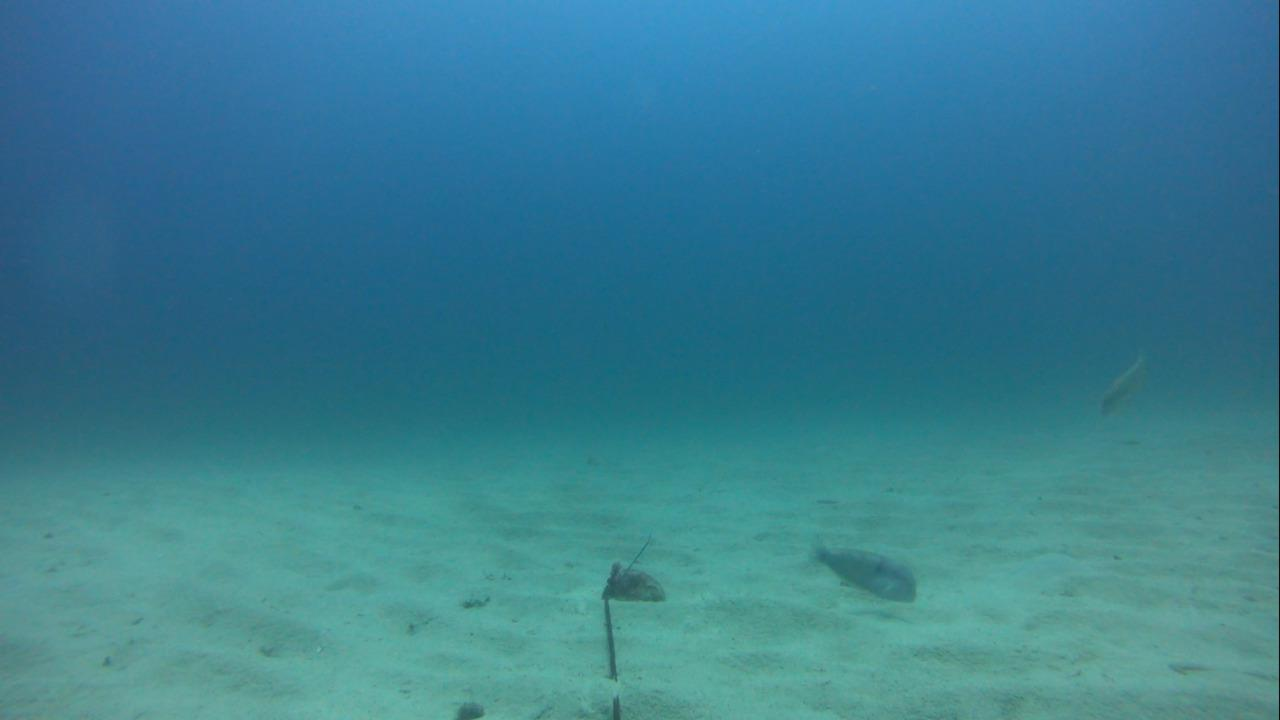raor: (803, 536, 919, 606), (1095, 342, 1151, 416)
